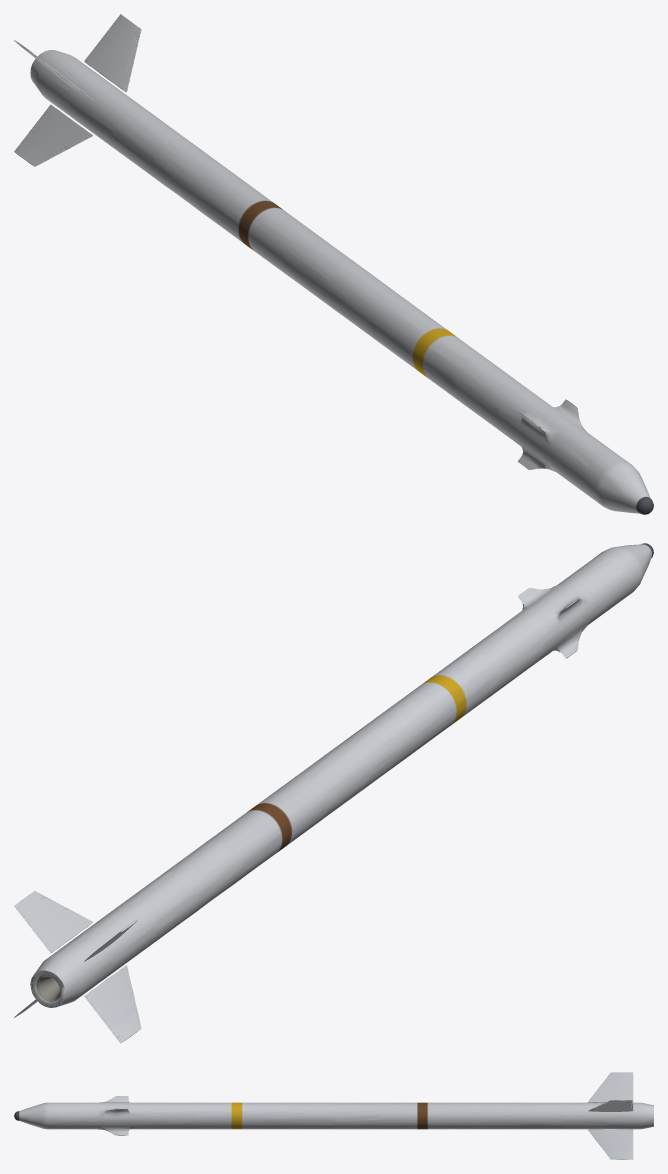
File: aim9x.glb
3 renders of one model, top to bottom at view 1: azimuth 30°, elevation 25°; view 2: azimuth 150°, elevation 25°; view 3: azimuth 270°, elevation 25°, orthographic. The views are drawn at different scales.
Visible parts, largest first — view 1: airframe, fsim:fin:3899119507:1|elevator+aileron:-1+rudder:1@-20,20, fsim:fin:3419906077:1|elevator+aileron:1+rudder:1@-20,20; view 2: airframe, fsim:fin:3899119507:1|elevator+aileron:-1+rudder:1@-20,20, fsim:fin:3419906077:1|elevator+aileron:1+rudder:1@-20,20; view 3: airframe, fsim:fin:1916934482:1|elevator+aileron:1+rudder:-1@-20,20, fsim:fin:453677541:1|elevator+aileron:-1+rudder:-1@-20,20, fsim:fin:3419906077:1|elevator+aileron:1+rudder:1@-20,20.
Boxes of the visible parts, <box> form: airframe: <box>30,50,653,514</box>; fsim:fin:3899119507:1|elevator+aileron:-1+rudder:1@-20,20: <box>14,104,92,166</box>; fsim:fin:3419906077:1|elevator+aileron:1+rudder:1@-20,20: <box>84,14,141,92</box>; airframe: <box>30,543,653,1007</box>; fsim:fin:3899119507:1|elevator+aileron:-1+rudder:1@-20,20: <box>84,965,141,1043</box>; fsim:fin:3419906077:1|elevator+aileron:1+rudder:1@-20,20: <box>14,891,92,952</box>; airframe: <box>14,1096,653,1135</box>; fsim:fin:1916934482:1|elevator+aileron:1+rudder:-1@-20,20: <box>588,1129,633,1159</box>; fsim:fin:453677541:1|elevator+aileron:-1+rudder:-1@-20,20: <box>588,1072,633,1102</box>; fsim:fin:3419906077:1|elevator+aileron:1+rudder:1@-20,20: <box>588,1099,633,1111</box>.
Size of the model in its own units: 0.3126 by 0.3132 by 3.02.
4 materials, 1 textured.
